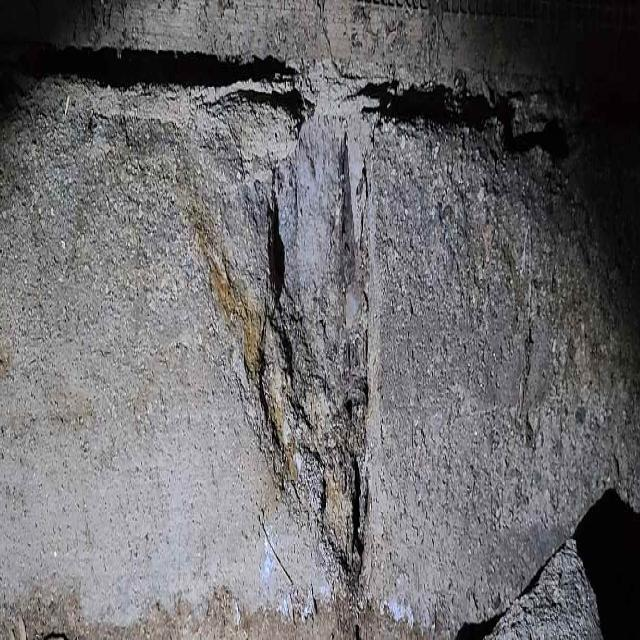Spalling: (0, 43, 381, 619)
